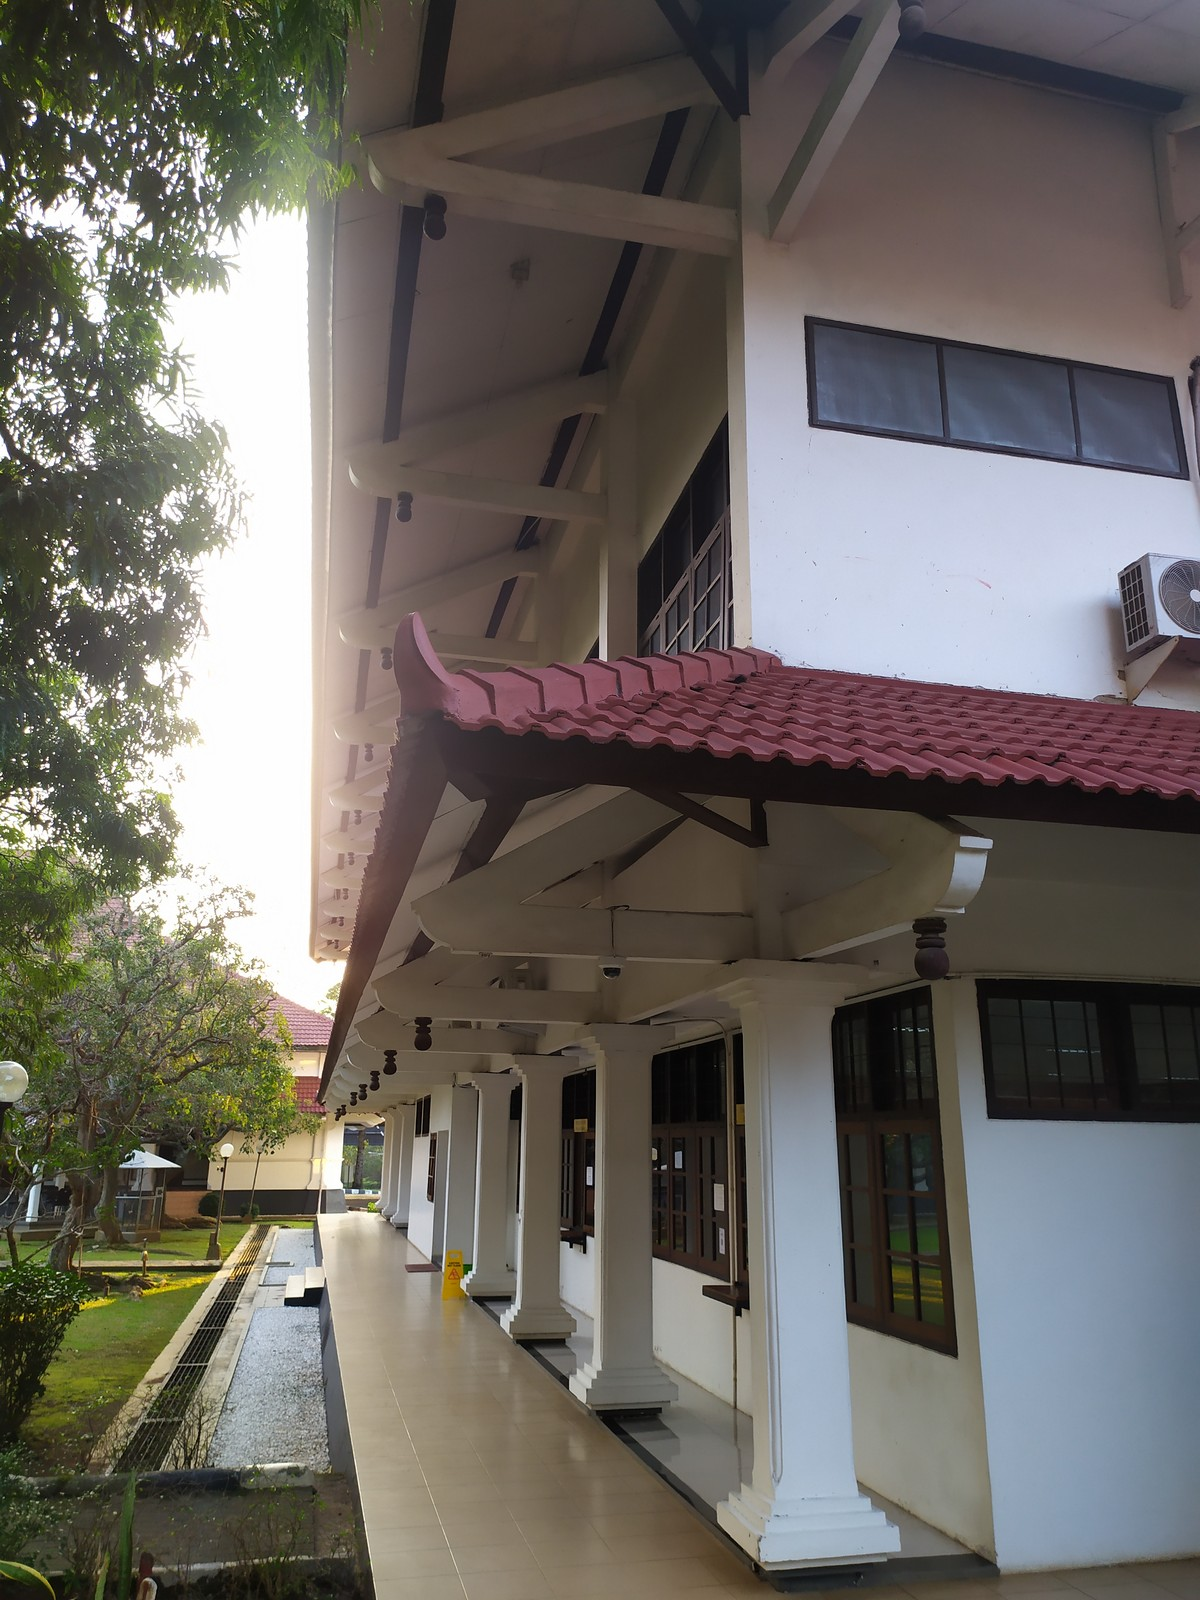concrete beam: (451, 165, 749, 270), (505, 903, 773, 974), (417, 464, 608, 532), (439, 981, 621, 1034)
concrete column: (736, 1007, 865, 1503), (586, 1041, 668, 1374), (586, 379, 653, 665), (517, 1073, 565, 1311)
